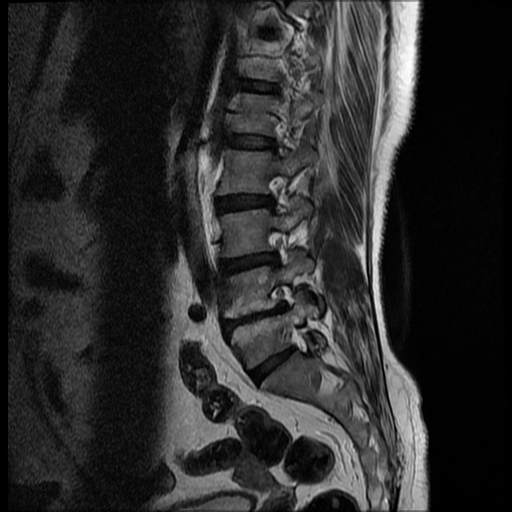RFS0: (259, 218, 303, 274), (263, 274, 307, 320)
